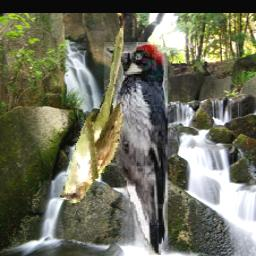Cuckoo: (56, 27, 123, 204)
Woodpecker: (104, 43, 168, 256)
